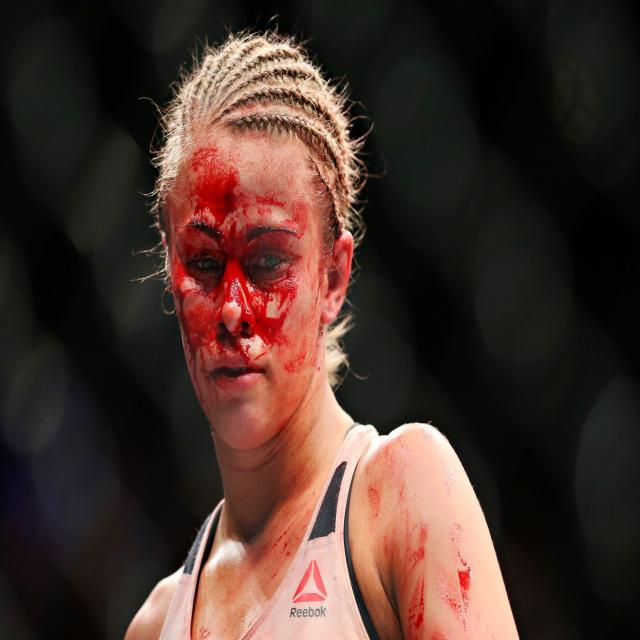flood: (162, 149, 316, 403), (374, 487, 479, 640)
